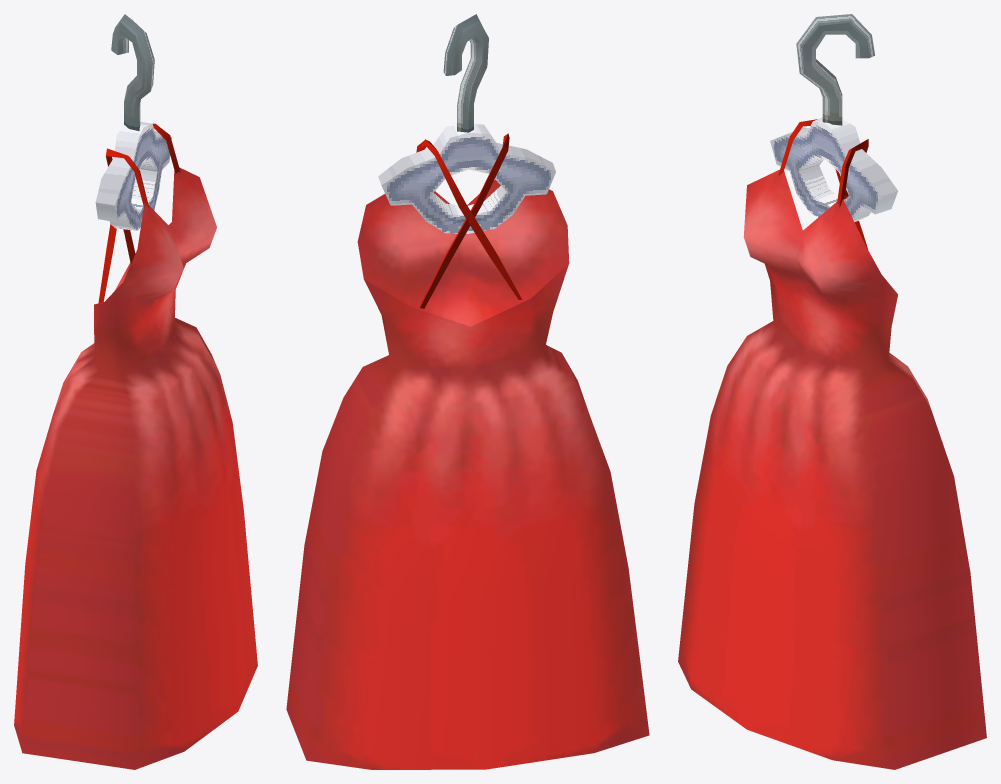
The model's file is fuku38_2.glb.
The picture shows the model from 3 angles, left to right: view 1: azimuth 30°, elevation 25°; view 2: azimuth 150°, elevation 25°; view 3: azimuth 270°, elevation 25°; orthographic projection. The views are drawn at different scales.
Visible parts, largest first — view 1: fuku38_2; view 2: fuku38_2; view 3: fuku38_2.
Boxes of the visible parts, x1,y1,x2,y2 form: fuku38_2: (14,14,257,769); fuku38_2: (286,14,649,769); fuku38_2: (678,14,986,769).
Size of the model in its own units: 102 by 230 by 94.
4 materials, 3 textured.
